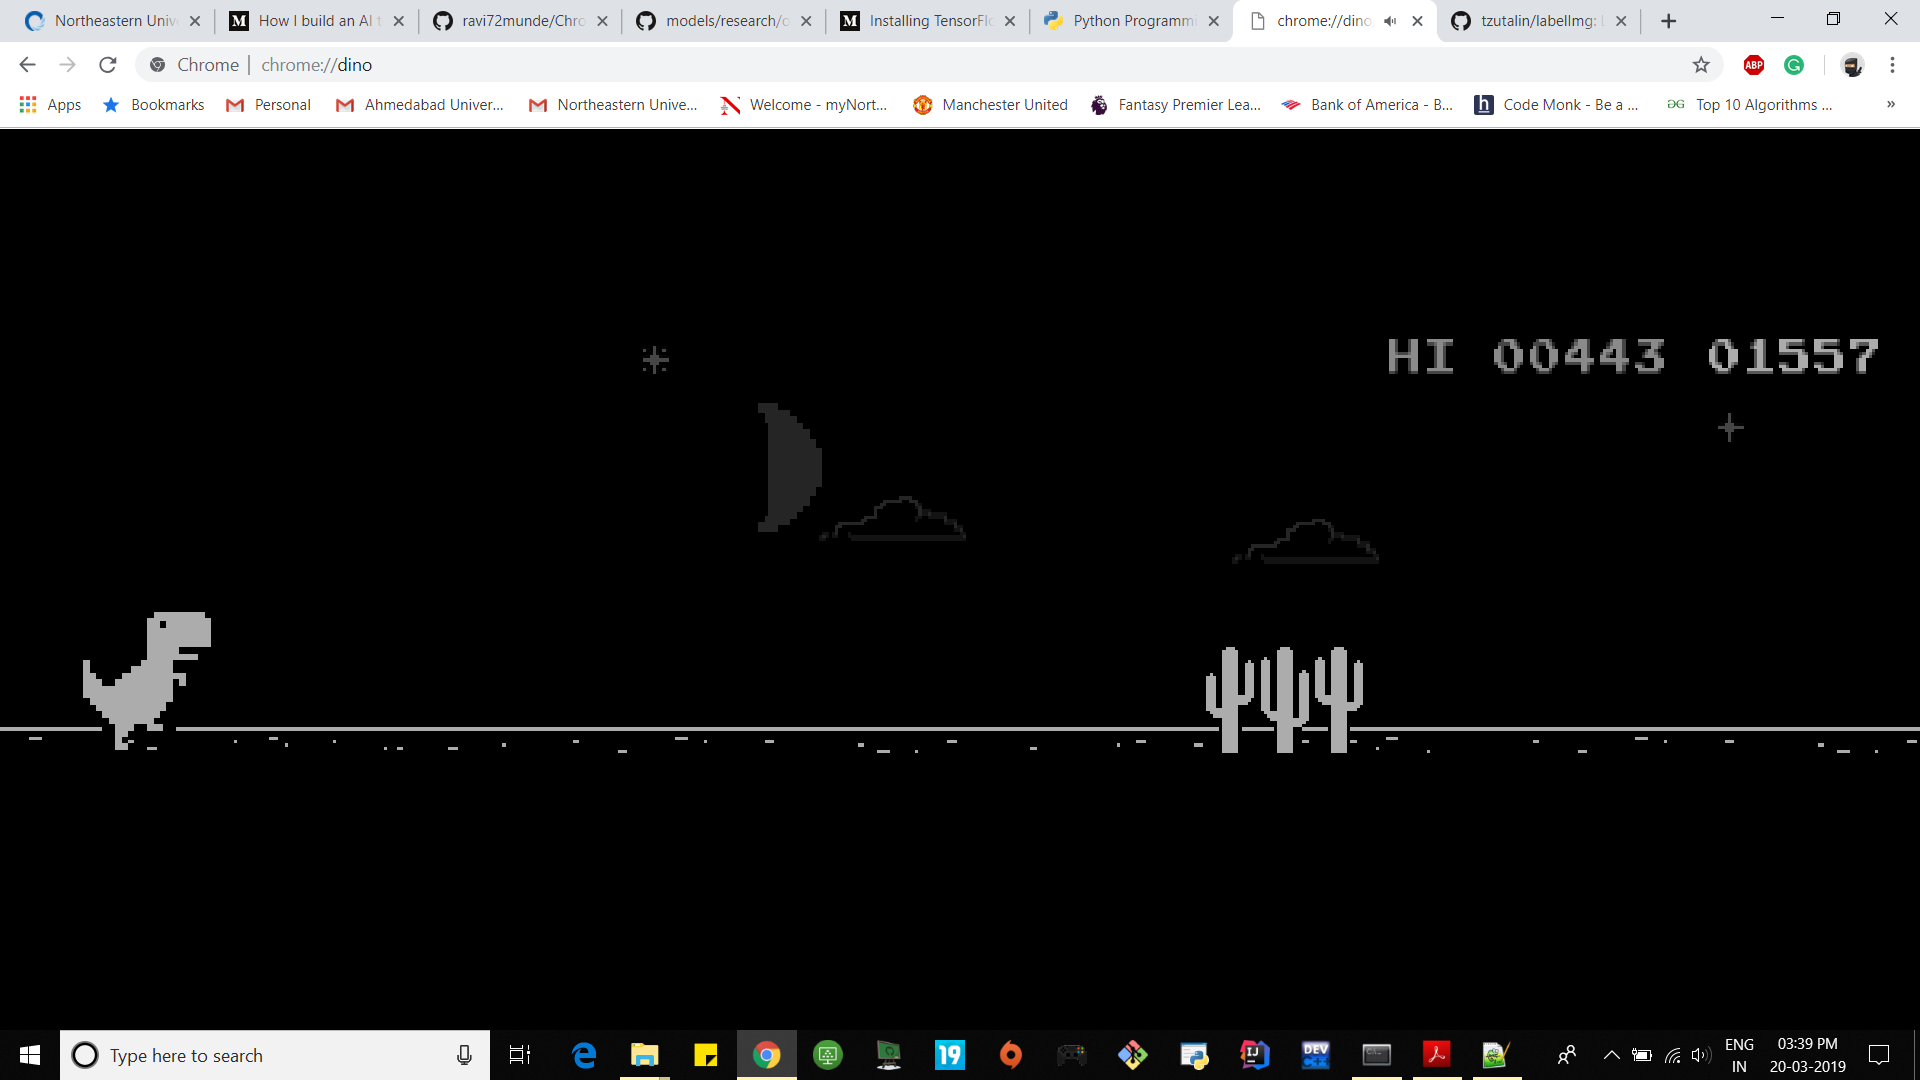cactus-3: (1205, 647, 1364, 756)
dino: (80, 612, 210, 756)
